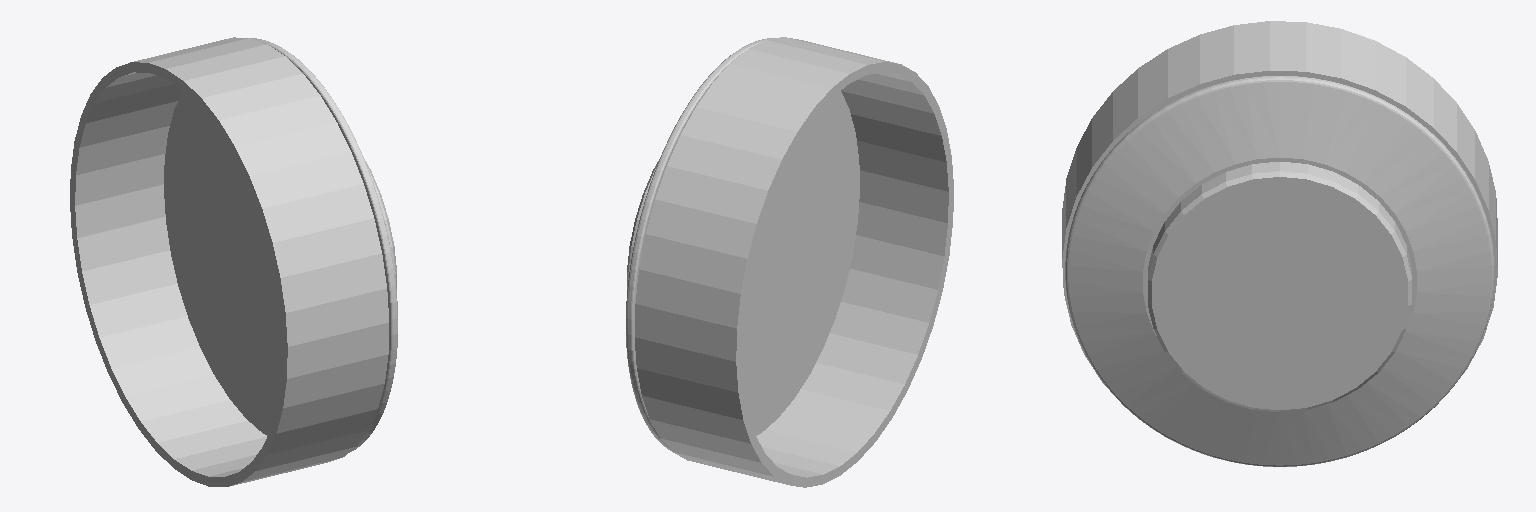
The model's file is wrist_roll_link.obj.
3 renders of one model, left to right at view 1: azimuth 30°, elevation 25°; view 2: azimuth 150°, elevation 25°; view 3: azimuth 270°, elevation 25°, orthographic.
Parts seen in each view (by area): view 1: obj1; view 2: obj1; view 3: obj1.
Boxes of the visible parts, x1,y1,x2,y2 form: obj1: [70, 37, 397, 486]; obj1: [626, 37, 953, 487]; obj1: [1062, 21, 1497, 466].
Bounding box in the file's own units: 0.0425 × 0.1039 × 0.1039.